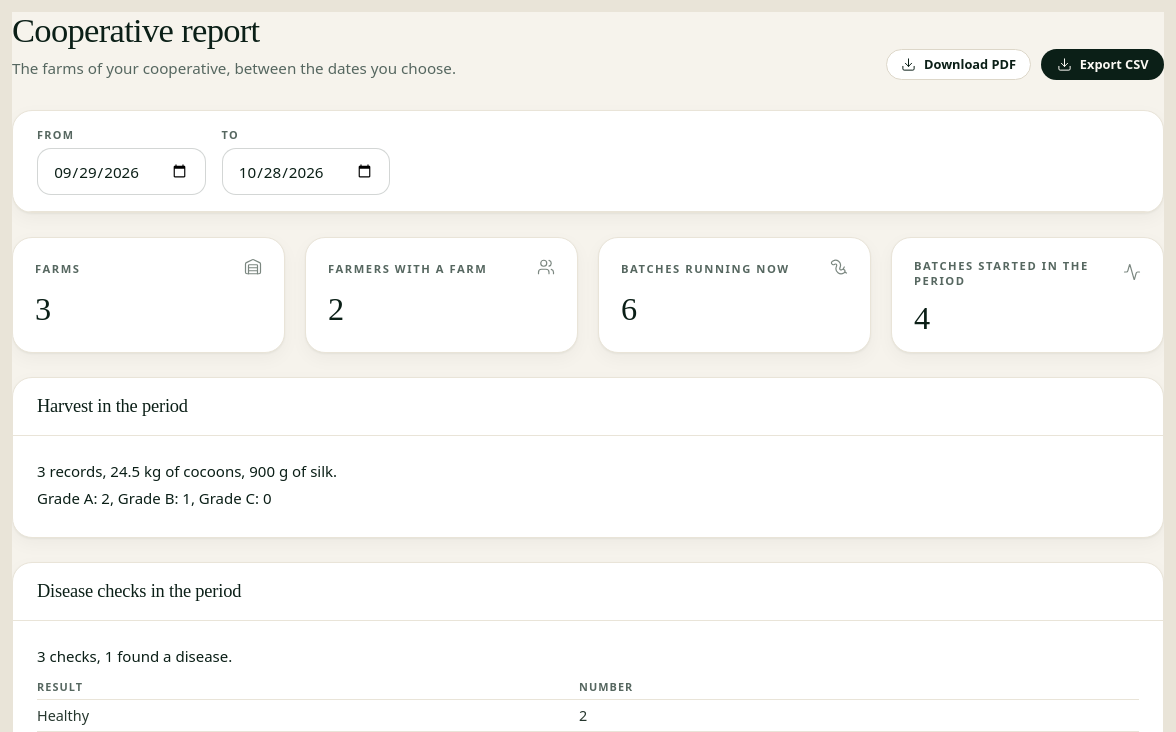
Cooperative report page › downloading › tells the person kindly when the file cannot be made
Click the button "Download PDF" at [958, 65], box [886,49,1031,80]
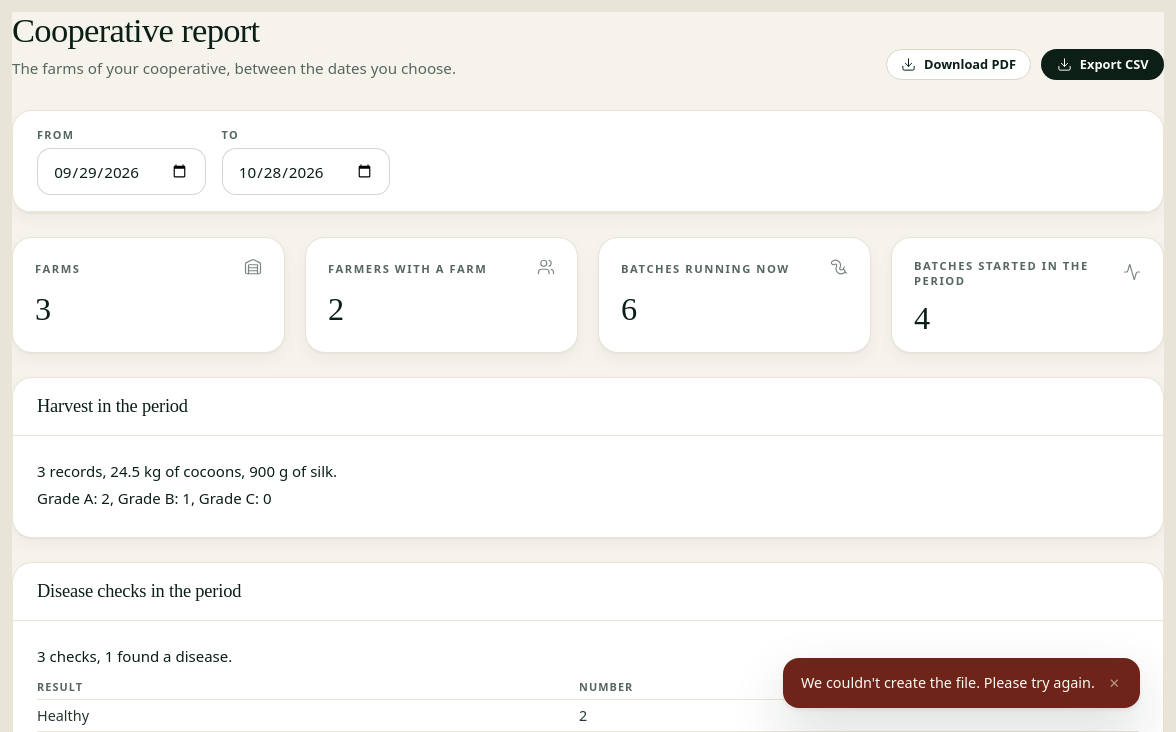
Expected: the text "We couldn't create the file. Please try again." is shown, [801,672,1095,694]
